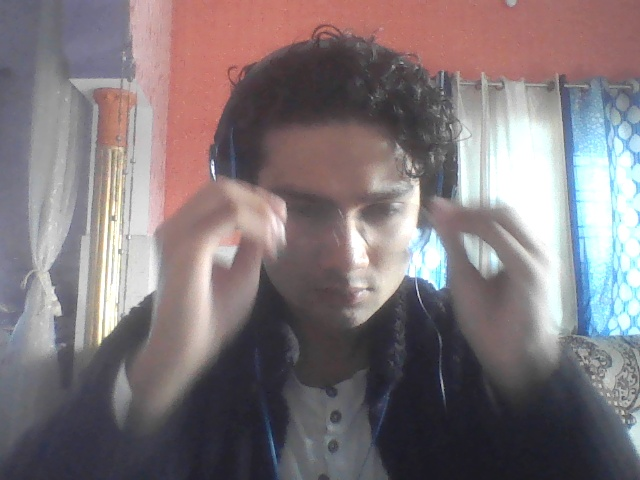real: (227, 43, 444, 350)
